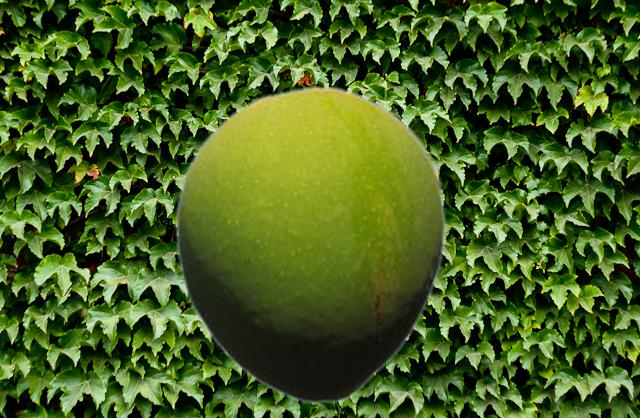green_mango: (174, 85, 446, 404)
